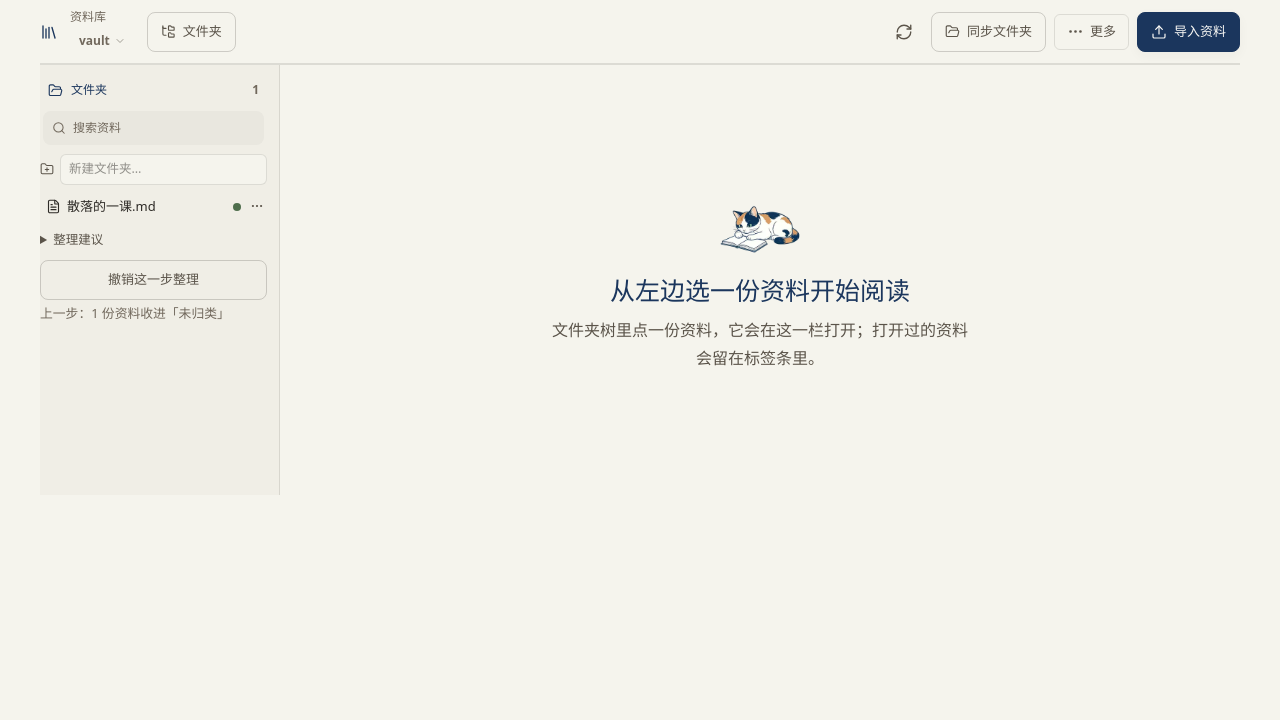
Test case: 资料库文件夹同步 › 进页面只有树与提示，点树里的资料才出现正文
Check: the heading "从左边选一份资料开始阅读" is shown, box [610,273,910,311]
What coordinates should you click on to do the following:
click the button "散落的一课.md"
I would click on:
 (144, 207)
Its box is [46,197,241,216].
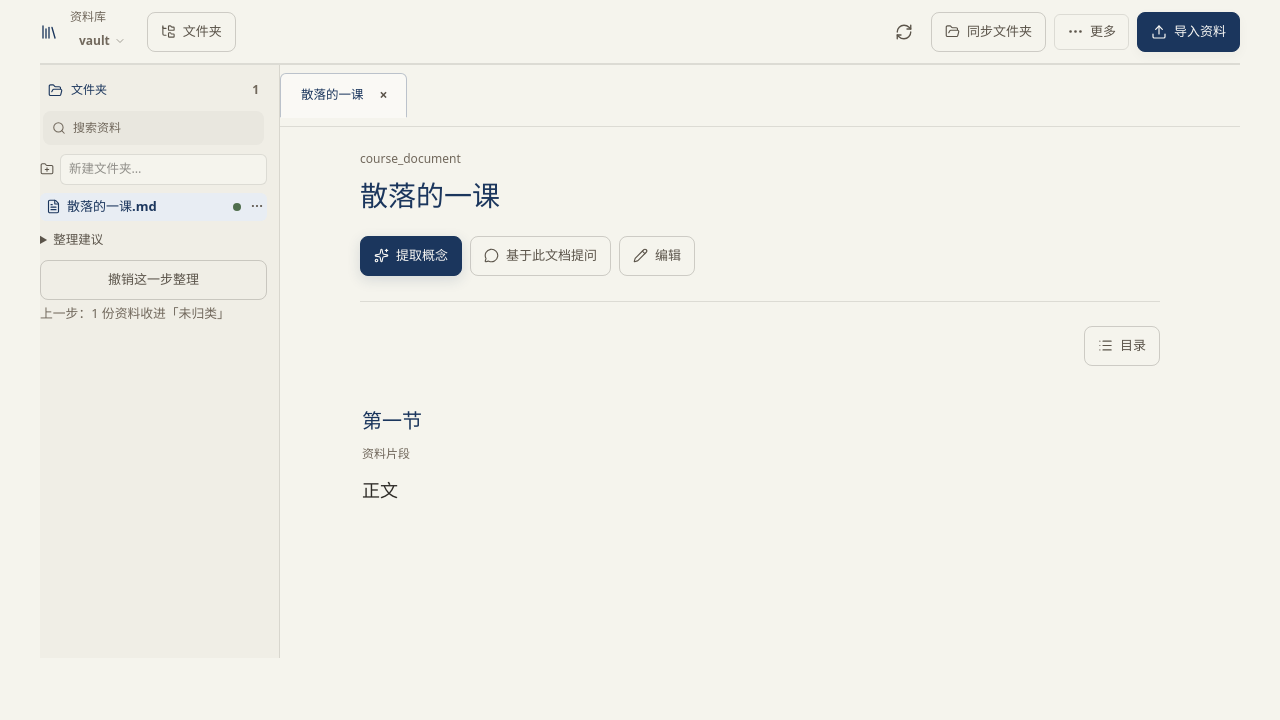
Check: the element with class "document-reader" is shown, box [360,145,1160,501]
Check: the number of elements with class "reader-tab" is 1, box [280,73,406,118]
